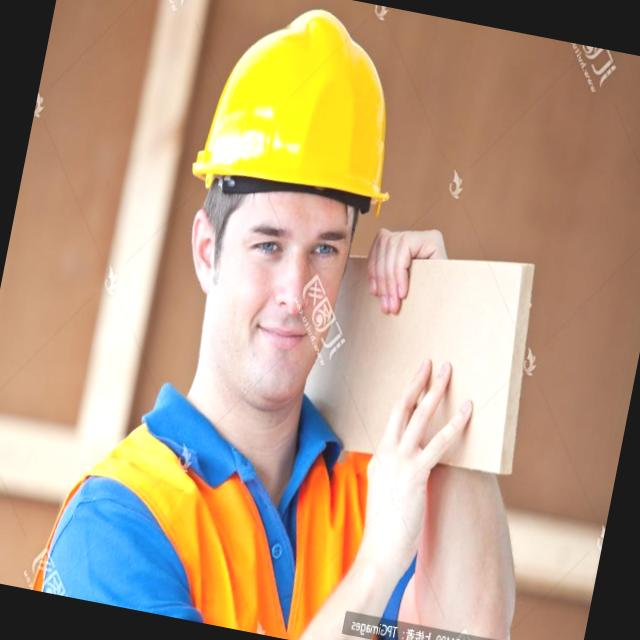helmet: (173, 0, 426, 231)
vest: (16, 383, 437, 640)
